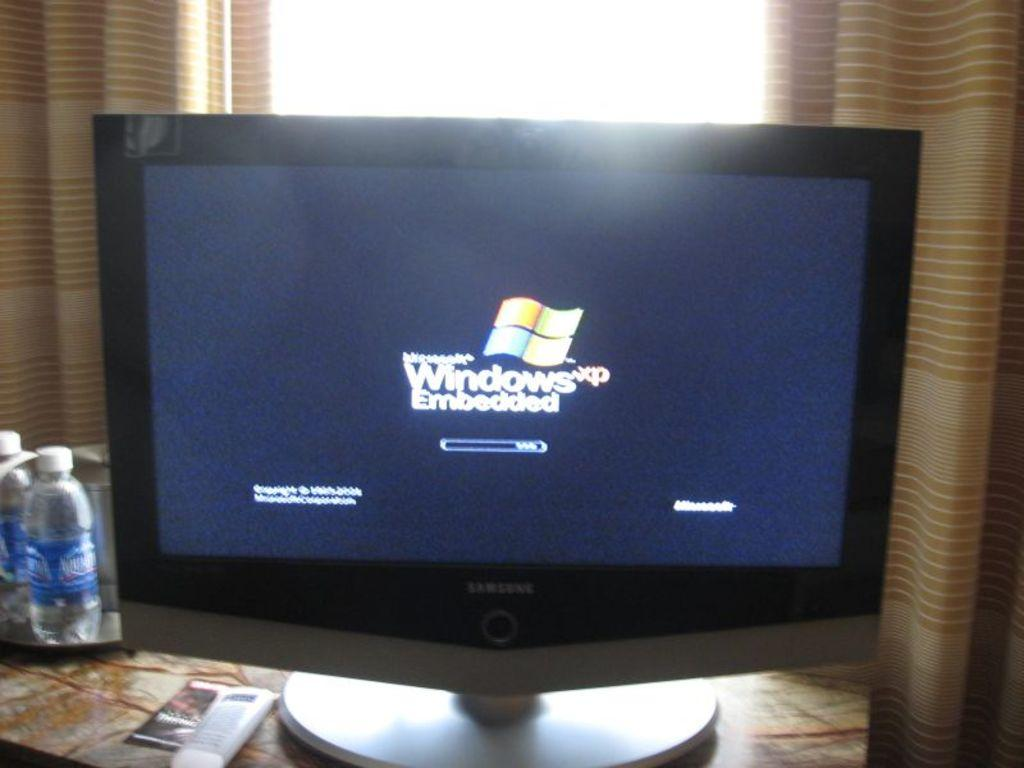Computer-monitor: (141, 81, 897, 705)
